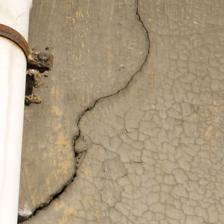Crack: (16, 7, 131, 107), (0, 52, 102, 104)
